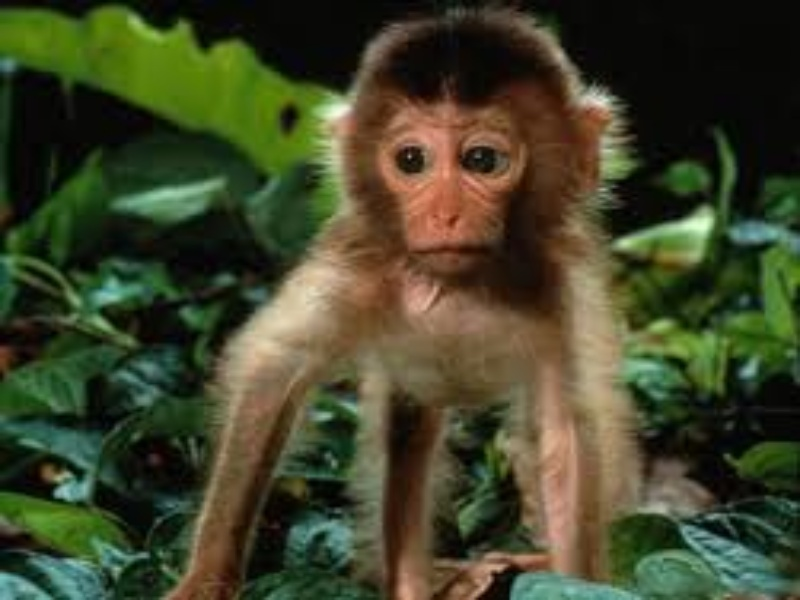monkey: (155, 13, 717, 593)
